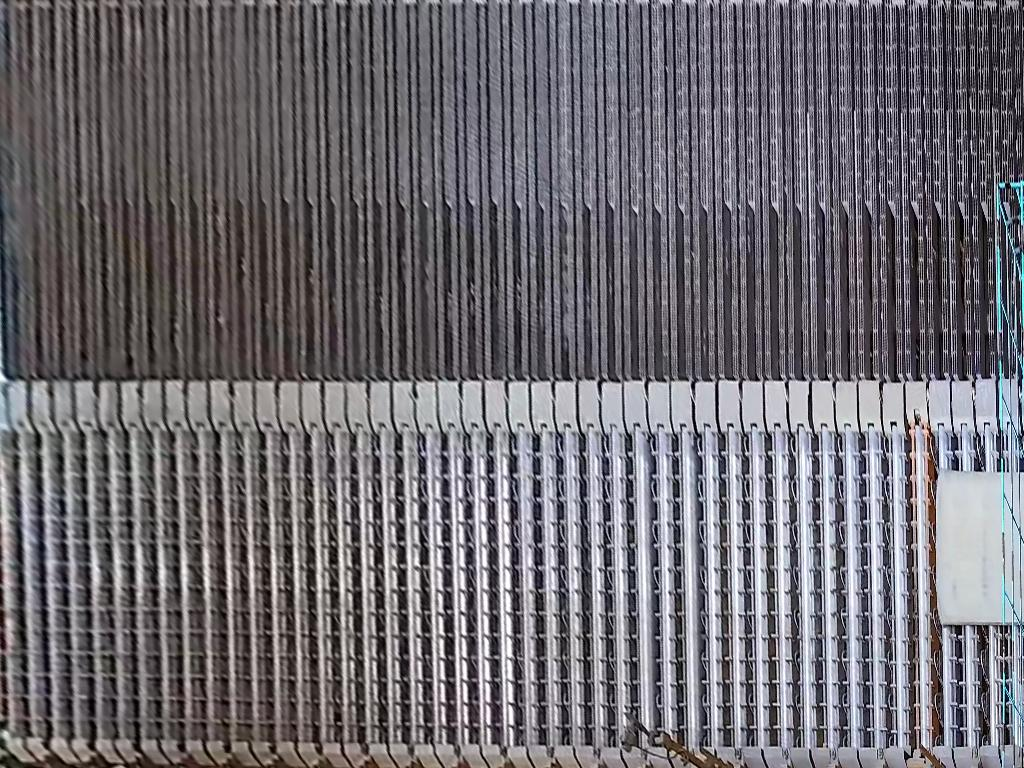steel: (933, 469, 1024, 625)
